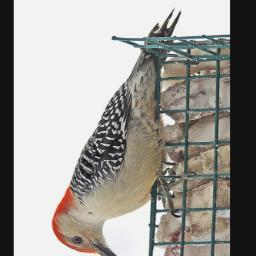Woodpecker: (52, 6, 183, 256)
